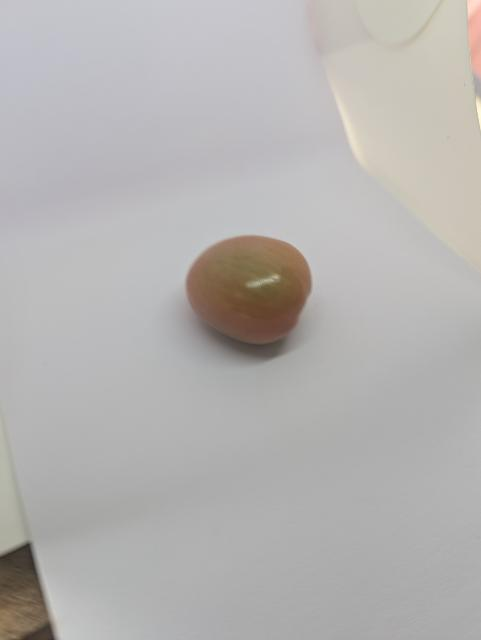turning: (181, 228, 318, 347)
